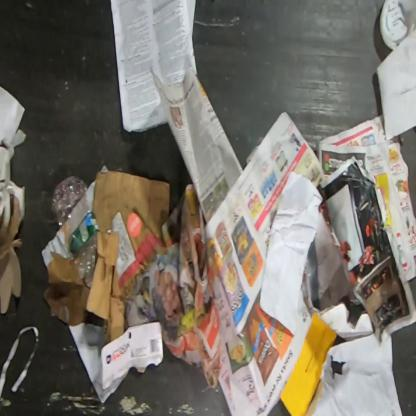cardboard: (68, 322, 164, 404), (92, 170, 171, 240)
rigid_plastic: (50, 175, 100, 288)
